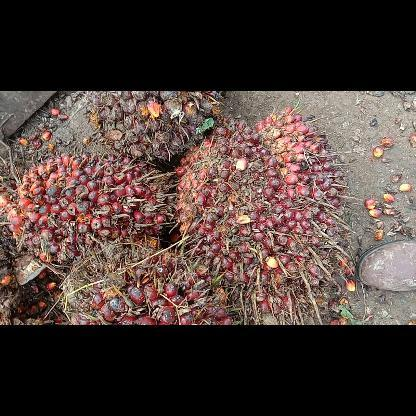Kurang masak: (82, 91, 228, 165)
TBS masak: (172, 102, 354, 324), (7, 150, 176, 264), (61, 236, 237, 324)
